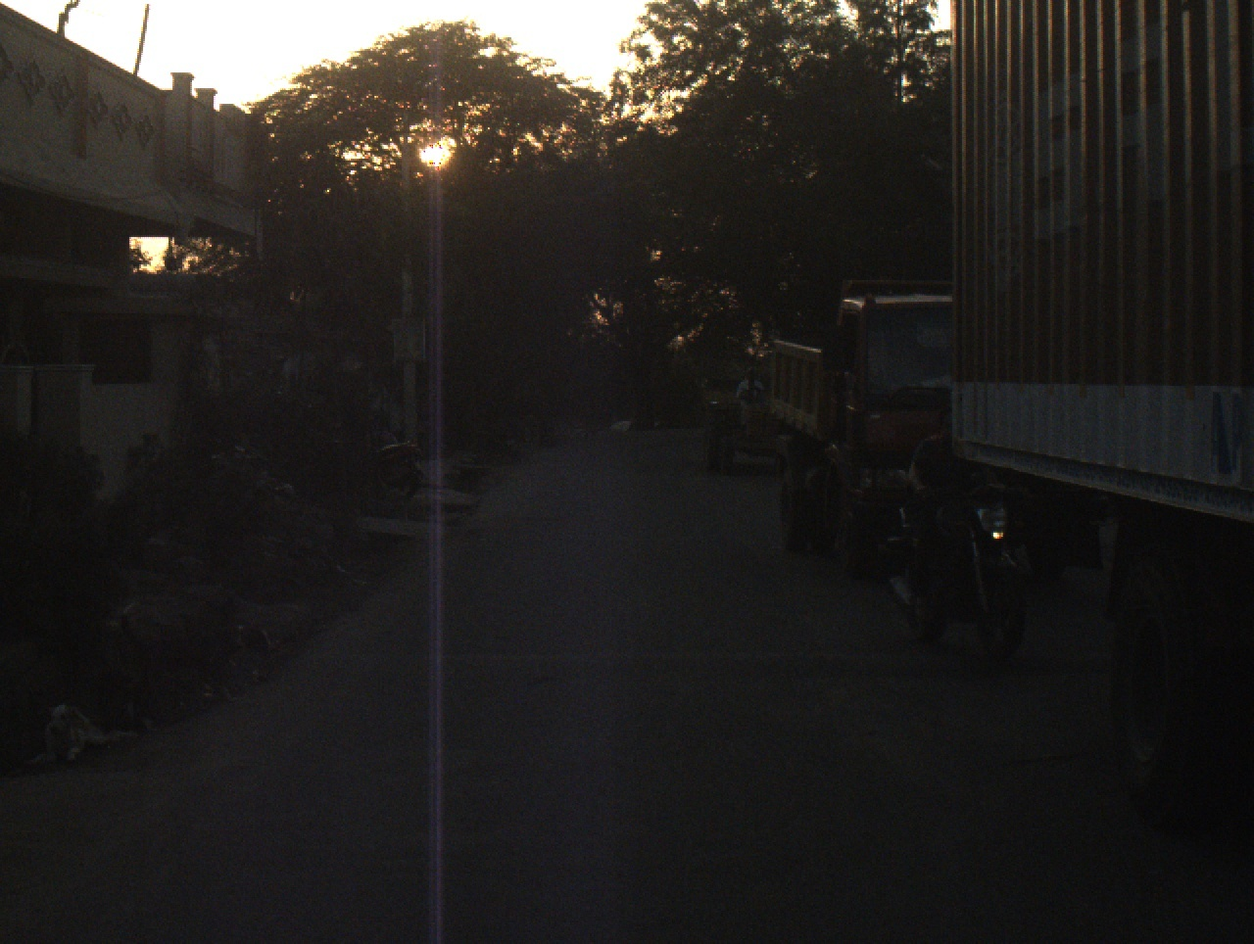motorcycle: (884, 474, 1032, 662), (322, 424, 433, 504)
rider: (894, 404, 998, 631), (737, 374, 760, 395)
truck: (944, 1, 1254, 779), (762, 266, 966, 574)
vehicle fallback: (699, 359, 795, 474)
